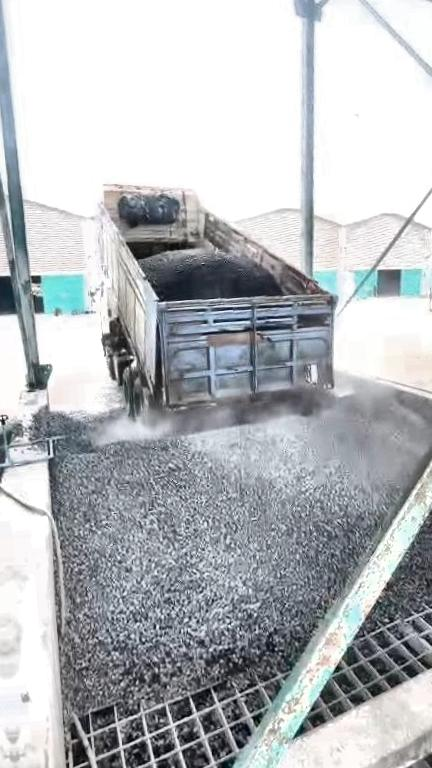gravel: (51, 386, 432, 713), (375, 436, 432, 620), (142, 249, 283, 301), (52, 380, 153, 443), (27, 404, 58, 510)
sand: (403, 340, 432, 401)
